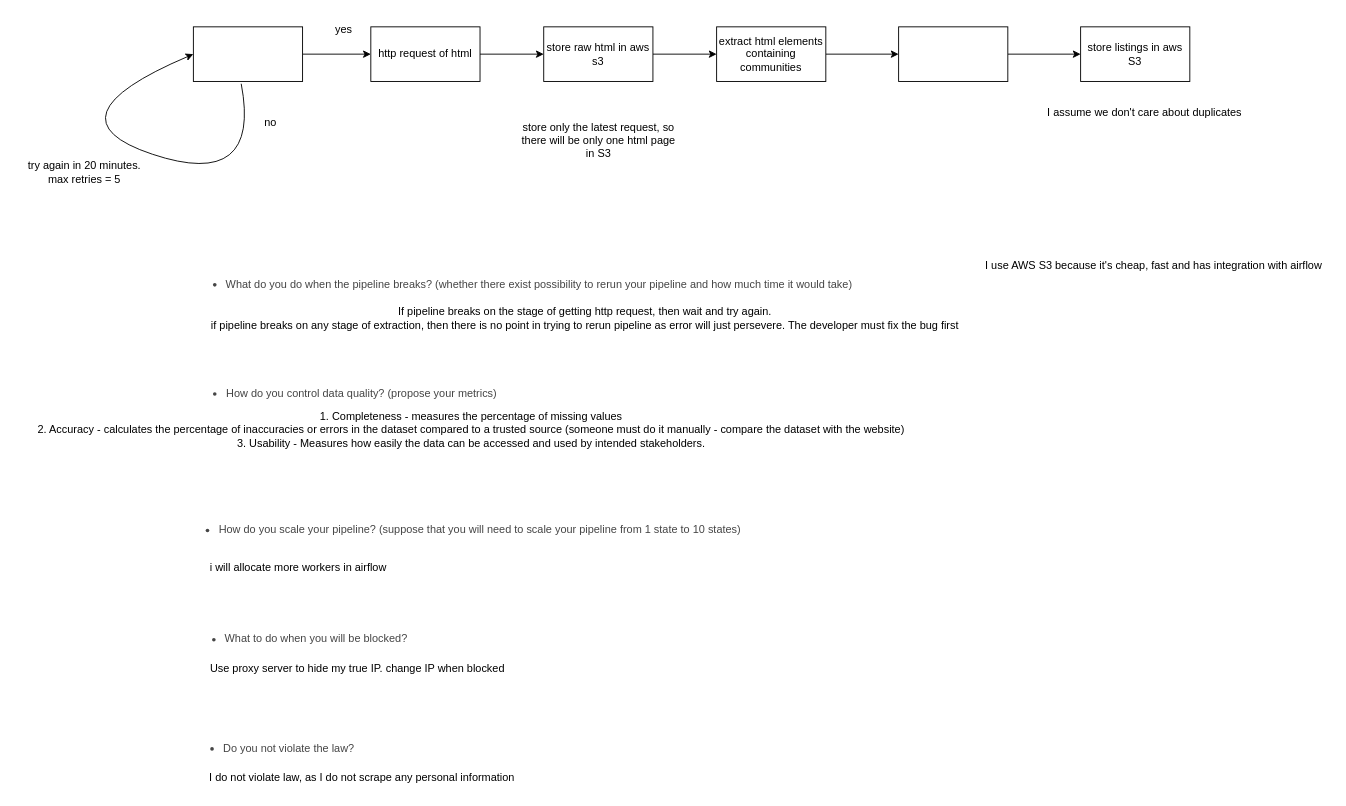
Some shapes in this 1346 by 806 pixel diagram are drawn without their labels. The box of each missing label's shape, as (x1, y1, x2, y2) in pixels:
check if website responds: (192, 26, 303, 81)
extract listings from each community html element: (898, 26, 1008, 81)
